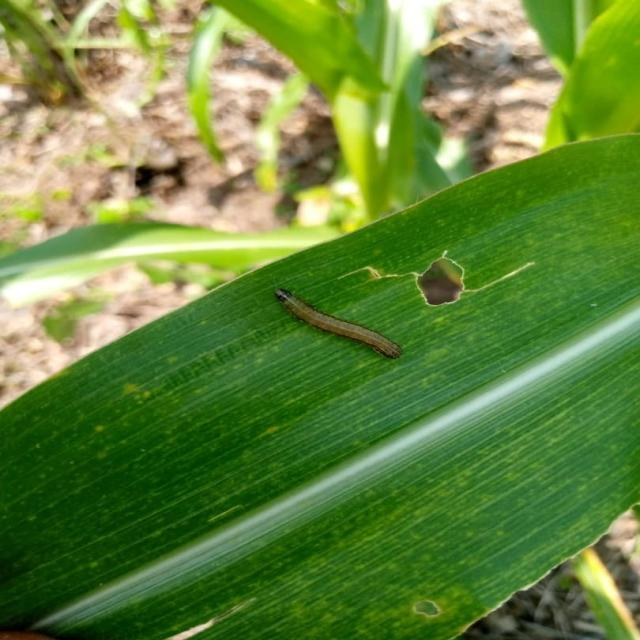yellow-stem-borer-larva: (266, 258, 409, 375)
